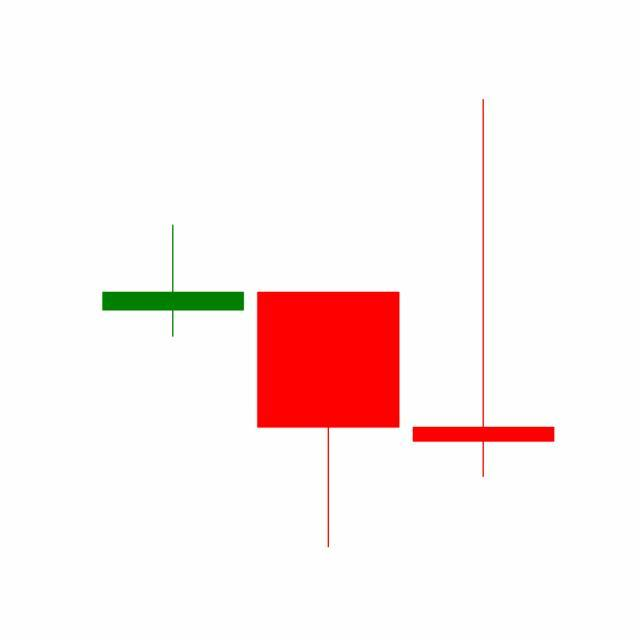Spinning Top: (406, 96, 562, 482)
